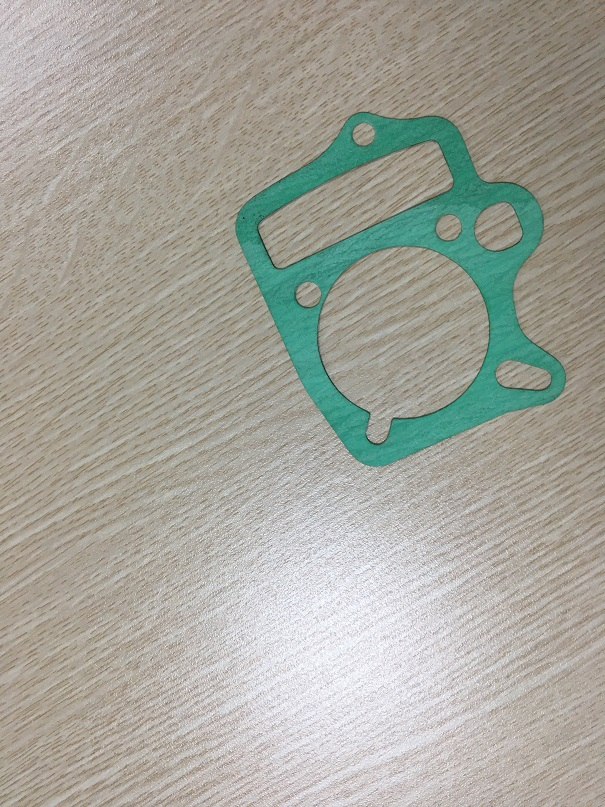type4: (221, 104, 572, 475)
